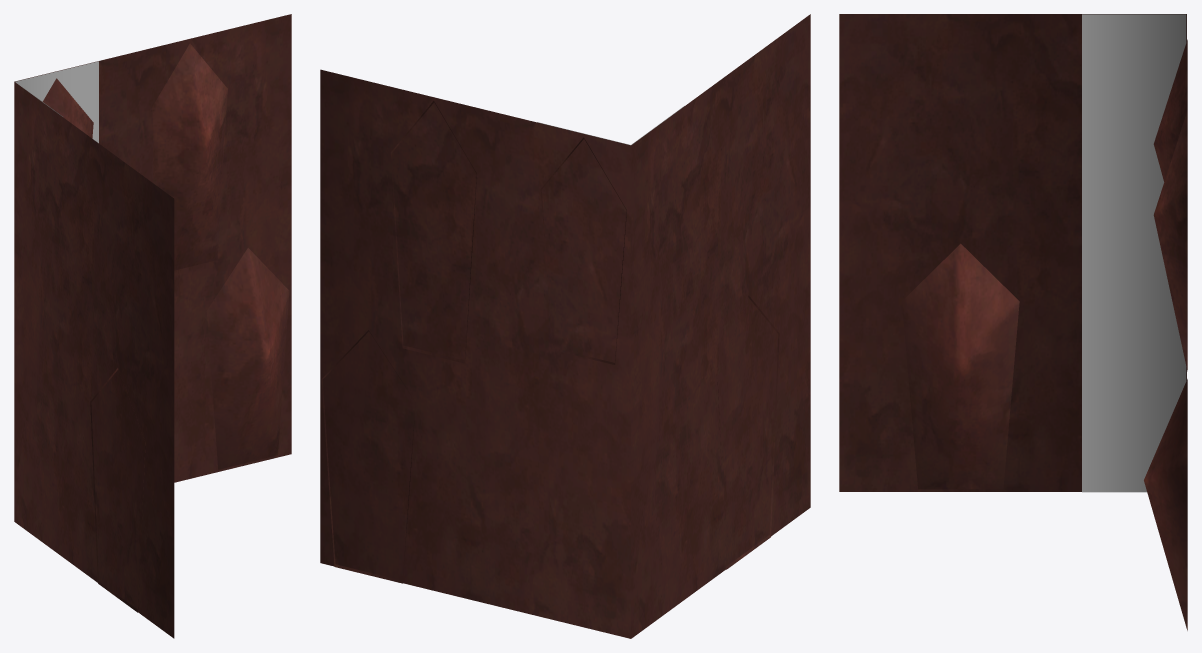
File: lava_wall_concave_02.fbx
3 views of the same model, side by side, from view 1: azimuth 30°, elevation 25°; view 2: azimuth 150°, elevation 25°; view 3: azimuth 270°, elevation 25° (orthographic). The views are drawn at different scales.
Visible parts, largest first — view 1: lava_wall_concave_02-0; view 2: lava_wall_concave_02-0; view 3: lava_wall_concave_02-0.
Part boxes in pixels (x1,y1,x2,y2): lava_wall_concave_02-0: (14,14,291,638); lava_wall_concave_02-0: (320,14,810,638); lava_wall_concave_02-0: (839,14,1187,630).
Size of the model in its own units: 3.63 by 5.5 by 3.63.
